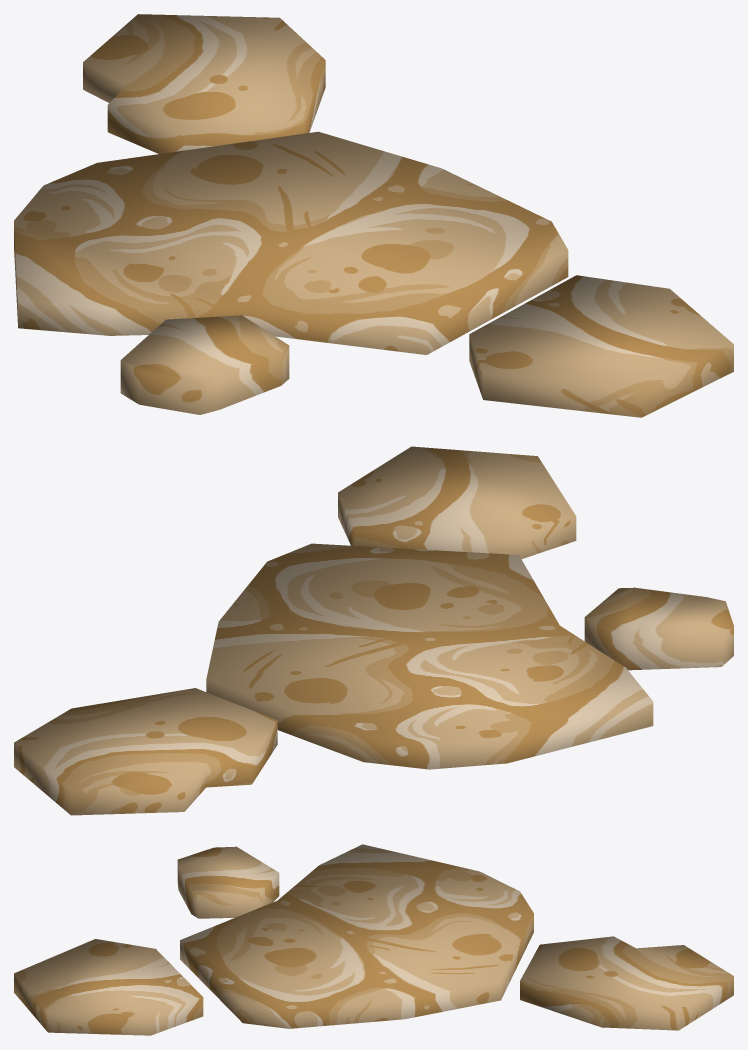
File: SM_environment_rocks02_mar30.fbx
3 views of the same model, one above another, from view 1: azimuth 30°, elevation 25°; view 2: azimuth 150°, elevation 25°; view 3: azimuth 270°, elevation 25° (orthographic). The views are drawn at different scales.
Parts seen in each view (by area): view 1: SM_environment_rocks02; view 2: SM_environment_rocks02; view 3: SM_environment_rocks02.
Boxes of the visible parts, x1,y1,x2,y2 form: SM_environment_rocks02: [14, 14, 733, 417]; SM_environment_rocks02: [14, 446, 733, 815]; SM_environment_rocks02: [14, 844, 733, 1035].
Size of the model in its own units: 1155 by 73.38 by 2042.
